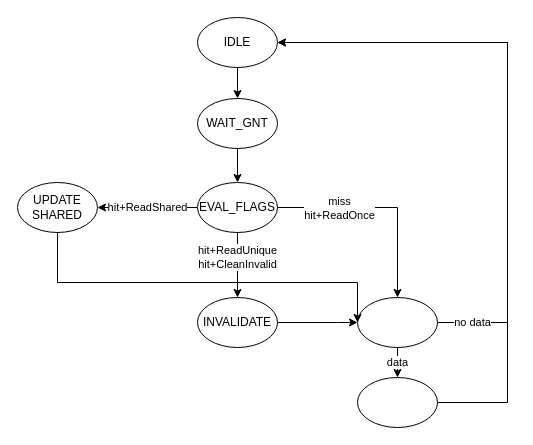
Image size: 533x445. Some labels were removed from this diagram. The shapes that lost their labels are listed below. From the top down, each one's box as (x1, y1, x2, y2) in pixels, then its label:
(356, 296, 438, 348): SEND CR_RESP
(356, 376, 438, 428): SEND CD_RESP
